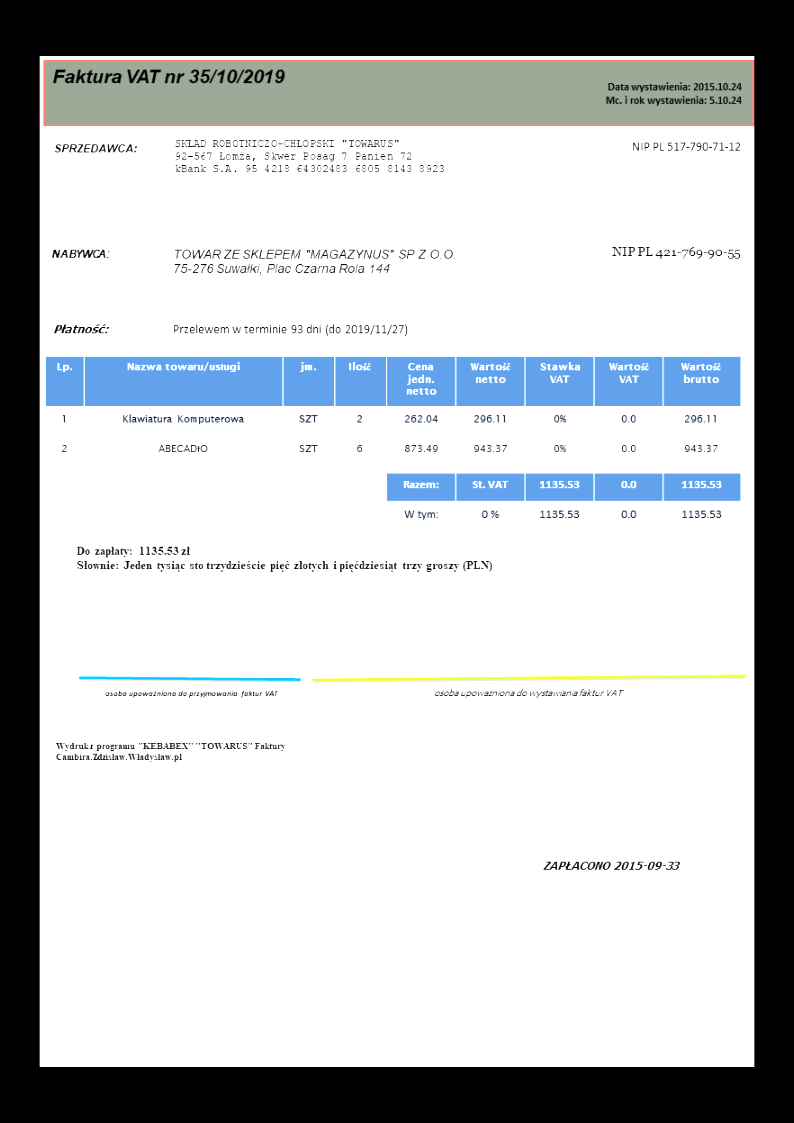Table: (44, 355, 742, 469), (385, 471, 743, 534)
TextBox: (73, 542, 496, 575), (172, 136, 446, 175), (171, 246, 461, 277), (52, 739, 289, 764), (51, 66, 287, 87), (603, 80, 744, 107), (171, 322, 408, 336), (432, 686, 627, 699), (610, 243, 743, 261), (541, 857, 681, 872), (103, 688, 280, 699), (629, 138, 743, 154), (52, 141, 139, 156), (50, 246, 110, 261), (52, 322, 111, 336)
